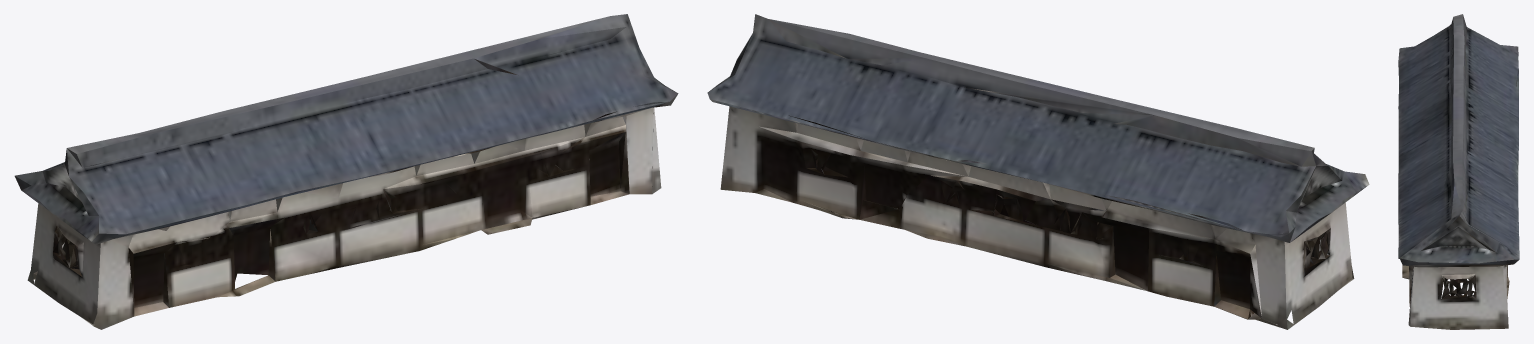
Rendered from barracks_nagaya_lod2.glb.
3 views of the same model, side by side, from view 1: azimuth 30°, elevation 25°; view 2: azimuth 150°, elevation 25°; view 3: azimuth 270°, elevation 25° (orthographic). The views are drawn at different scales.
Visible parts, largest first — view 1: barracks_nagaya_lod2; view 2: barracks_nagaya_lod2; view 3: barracks_nagaya_lod2.
Boxes of the visible parts, x1,y1,x2,y2 form: barracks_nagaya_lod2: (14, 14, 678, 329); barracks_nagaya_lod2: (707, 14, 1369, 329); barracks_nagaya_lod2: (1398, 14, 1519, 329).
Bounding box in the file's own units: 24.01 × 6 × 5.79.
Materials: 1 (1 with a texture image).
